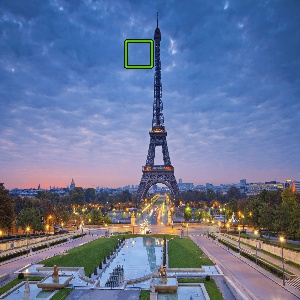square: (123, 39, 154, 69)
